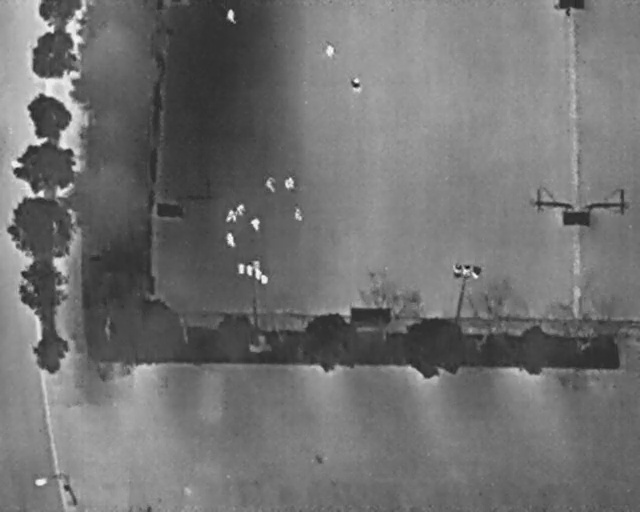Person: (265, 176, 276, 193), (225, 8, 236, 24), (351, 77, 362, 93), (225, 232, 236, 248), (294, 204, 303, 221), (225, 209, 236, 222), (326, 45, 335, 59), (285, 177, 294, 190), (251, 218, 260, 230), (253, 260, 261, 273), (237, 204, 245, 215)
